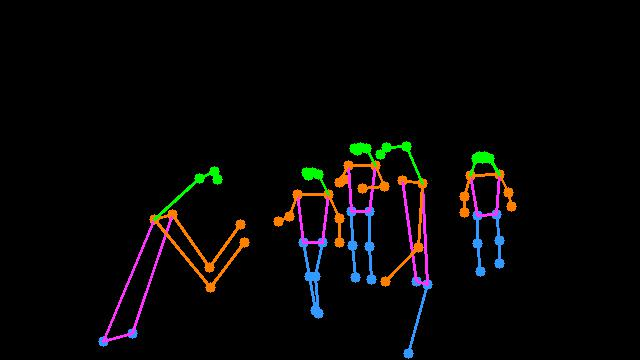normal: (270, 165, 348, 324), (456, 148, 527, 290), (335, 138, 393, 290)
